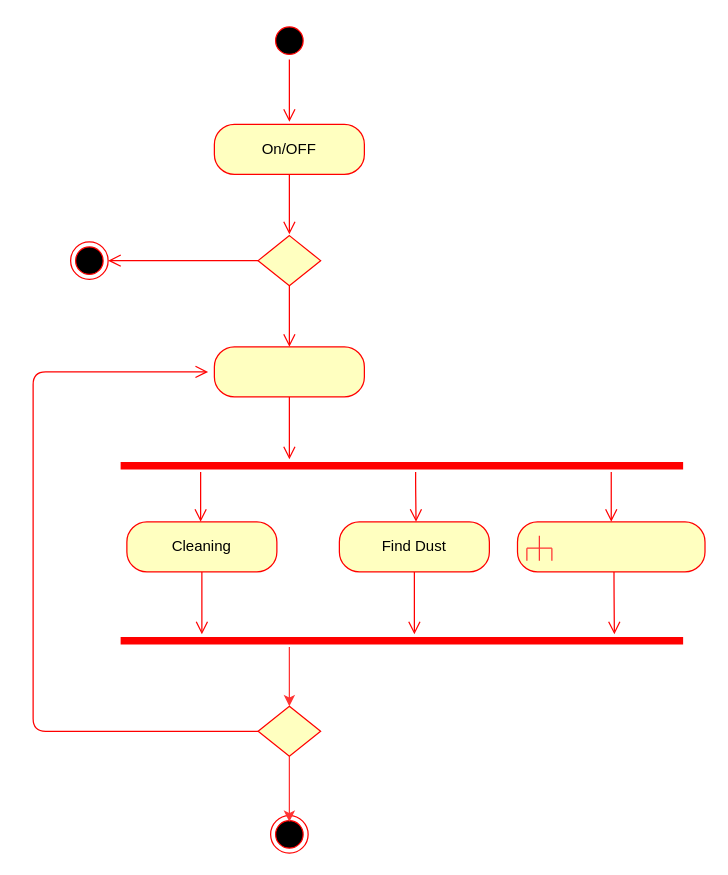
Image size: 728x875. Some labels were removed from this diagram. Here are the shapes that lost their labels. From the top down, the centre of each, then its label:
point (288, 371): Move
point (610, 546): Detect Obstacle
